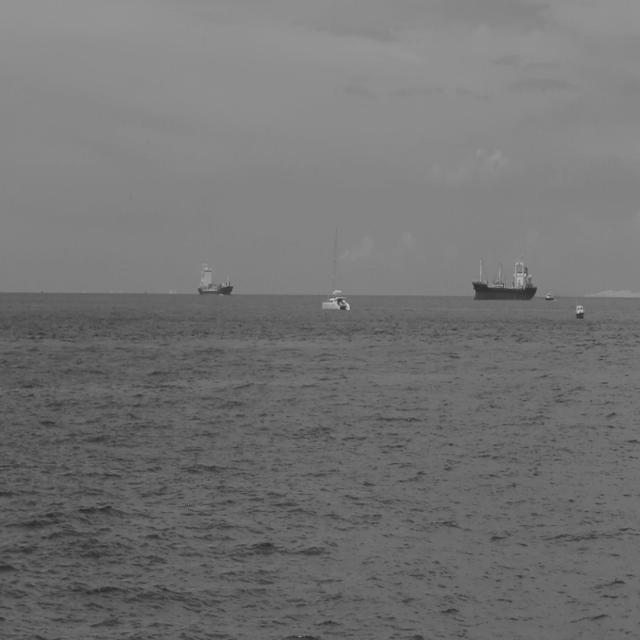ship: (469, 250, 538, 304), (321, 222, 352, 314), (197, 259, 234, 298), (574, 300, 586, 320), (544, 292, 554, 302)
